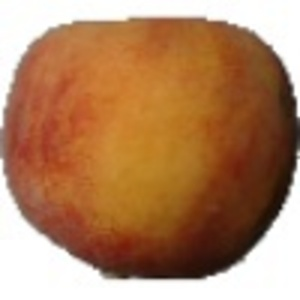pêssego: (1, 14, 300, 284)
